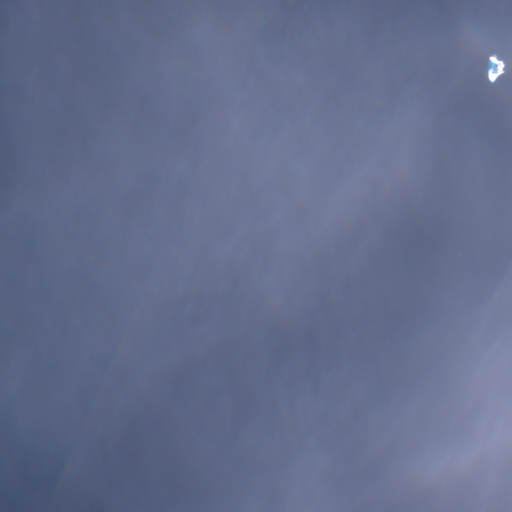Iceberg: (488, 55, 505, 81)
